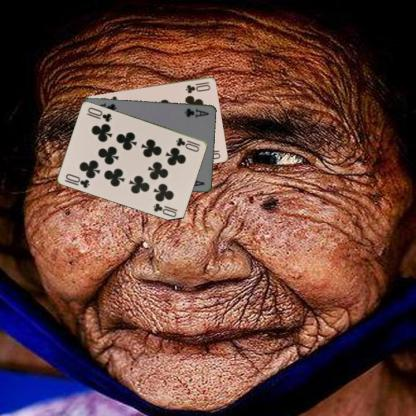10c: (173, 135, 202, 153), (64, 171, 91, 189), (183, 79, 212, 95)
Ac: (182, 105, 210, 119)
